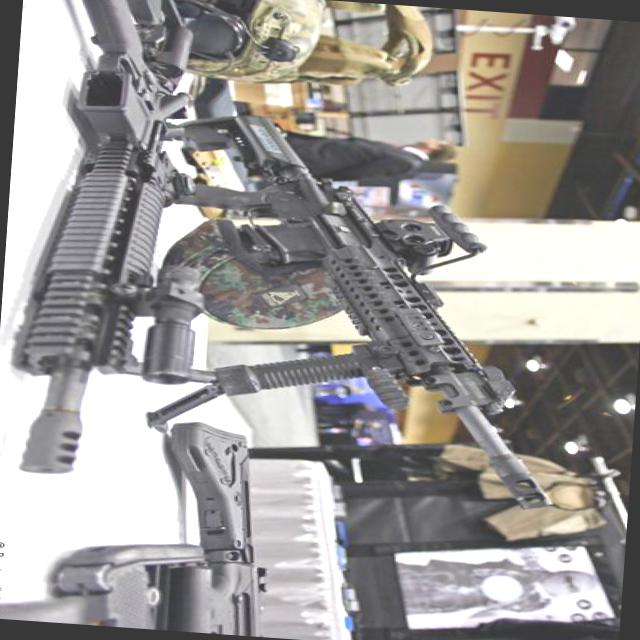long weapon: (175, 111, 569, 514)
